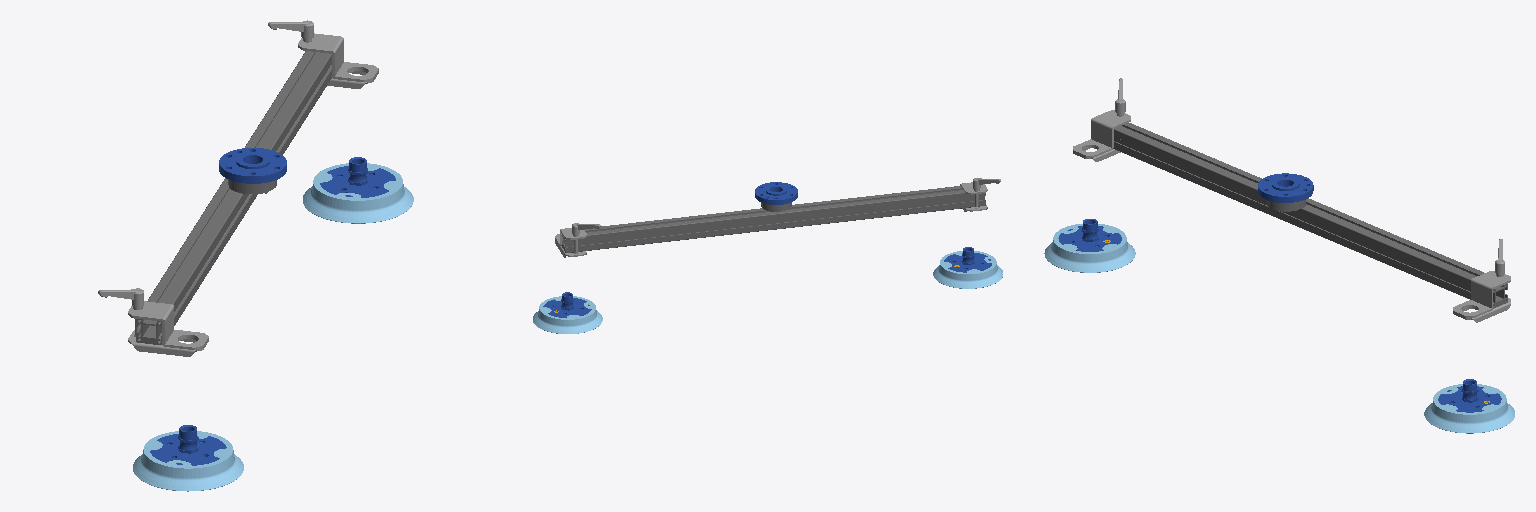
The robot description file, URDF, robot "vacuum_gripper":
<?xml version="1.0" ?>
<!-- Generated using onshape-to-robot -->
<!-- Onshape document_id: 4b207e6831627653b3a849ee -->
<robot name="vacuum_gripper">
  <!-- Link flangeadapter -->
  <link name="flangeadapter">
    <inertial>
      <origin xyz="3.24835e-05 0.00023746 -0.00690755" rpy="0 0 0"/>
      <mass value="0.2565"/>
      <inertia ixx="0.000152523" ixy="1.4611e-07" ixz="7.1592e-08" iyy="0.000154316" iyz="2.01529e-07" izz="0.000293307"/>
    </inertial>
    <!-- Part flangeadapter -->
    <visual>
      <origin xyz="-0 0.000379203 0" rpy="1.5708 -0 -1.5708"/>
      <geometry>
        <mesh filename="package://vaacum_gripper_description/assets/flangeadapter.stl"/>
      </geometry>
      <material name="flangeadapter_material">
        <color rgba="0.231373 0.380392 0.705882 1"/>
      </material>
    </visual>
    <collision>
      <origin xyz="-0 0.000379203 0" rpy="1.5708 -0 -1.5708"/>
      <geometry>
        <mesh filename="package://vaacum_gripper_description/assets/flangeadapter.stl"/>
      </geometry>
    </collision>
  </link>
  <!-- Link robotprofileconnector -->
  <link name="robotprofileconnector">
    <inertial>
      <origin xyz="-0.000217881 0.0248687 -0.0061243" rpy="0 0 0"/>
      <mass value="0.104326"/>
      <inertia ixx="3.13544e-05" ixy="8.77639e-07" ixz="2.2962e-08" iyy="3.16219e-05" iyz="-3.6649e-08" izz="5.95628e-05"/>
    </inertial>
    <!-- Part robotprofileconnector -->
    <visual>
      <origin xyz="-0 0.025 -0" rpy="1.5708 -0 -1.5708"/>
      <geometry>
        <mesh filename="package://vaacum_gripper_description/assets/robotprofileconnector.stl"/>
      </geometry>
      <material name="robotprofileconnector_material">
        <color rgba="0.972549 0.529412 0.00392157 1"/>
      </material>
    </visual>
    <collision>
      <origin xyz="-0 0.025 -0" rpy="1.5708 -0 -1.5708"/>
      <geometry>
        <mesh filename="package://vaacum_gripper_description/assets/robotprofileconnector.stl"/>
      </geometry>
    </collision>
  </link>
  <!-- Link robotprofileconnector2 -->
  <link name="robotprofileconnector2">
    <inertial>
      <origin xyz="-7.00286e-05 -0.00647985 0.0319523" rpy="0 0 0"/>
      <mass value="0.172365"/>
      <inertia ixx="7.74249e-05" ixy="9.8444e-08" ixz="-2.67099e-07" iyy="0.000145439" iyz="-3.5652e-08" izz="7.67889e-05"/>
    </inertial>
    <!-- Part robotprofileconnector2 -->
    <visual>
      <origin xyz="-0 -0.008 0.0319268" rpy="-3.14159 1.22173 3.14159"/>
      <geometry>
        <mesh filename="package://vaacum_gripper_description/assets/robotprofileconnector2.stl"/>
      </geometry>
      <material name="robotprofileconnector2_material">
        <color rgba="0.498039 0.498039 0.498039 1"/>
      </material>
    </visual>
    <collision>
      <origin xyz="-0 -0.008 0.0319268" rpy="-3.14159 1.22173 3.14159"/>
      <geometry>
        <mesh filename="package://vaacum_gripper_description/assets/robotprofileconnector2.stl"/>
      </geometry>
    </collision>
  </link>
  <!-- Link aluprofile -->
  <link name="aluprofile">
    <inertial>
      <origin xyz="0 -0 -0.0172184" rpy="0 0 0"/>
      <mass value="1.97459"/>
      <inertia ixx="0.164918" ixy="0" ixz="-0" iyy="0.000675187" iyz="0" izz="0.164855"/>
    </inertial>
    <!-- Part aluprofile -->
    <visual>
      <origin xyz="-0 -0.05 -0.0143" rpy="-3.14159 0 0"/>
      <geometry>
        <mesh filename="package://vaacum_gripper_description/assets/aluprofile.stl"/>
      </geometry>
      <material name="aluprofile_material">
        <color rgba="0.498039 0.498039 0.498039 1"/>
      </material>
    </visual>
    <collision>
      <origin xyz="-0 -0.05 -0.0143" rpy="-3.14159 0 0"/>
      <geometry>
        <mesh filename="package://vaacum_gripper_description/assets/aluprofile.stl"/>
      </geometry>
    </collision>
  </link>
  <!-- Link profilespringconnector -->
  <link name="profilespringconnector">
    <inertial>
      <origin xyz="0.00949356 0.0210946 0.0227285" rpy="0 0 0"/>
      <mass value="0.199581"/>
      <inertia ixx="0.000198297" ixy="-2.00512e-05" ixz="0.000116046" iyy="0.000366965" iyz="1.81775e-05" izz="0.000272733"/>
    </inertial>
    <!-- Part profilespringconnector -->
    <visual>
      <origin xyz="-0.0326322 -0.0037366 -0.003" rpy="1.5708 0 0"/>
      <geometry>
        <mesh filename="package://vaacum_gripper_description/assets/profilespringconnector.stl"/>
      </geometry>
      <material name="profilespringconnector_material">
        <color rgba="0.647059 0.647059 0.647059 1"/>
      </material>
    </visual>
    <collision>
      <origin xyz="-0.0326322 -0.0037366 -0.003" rpy="1.5708 0 0"/>
      <geometry>
        <mesh filename="package://vaacum_gripper_description/assets/profilespringconnector.stl"/>
      </geometry>
    </collision>
  </link>
  <!-- Link spring -->
  <link name="spring">
    <inertial>
      <origin xyz="-4.625e-09 0.000136185 -0.0334185" rpy="0 0 0"/>
      <mass value="0.53"/>
      <inertia ixx="0.00156996" ixy="-3.1e-11" ixz="7.9e-11" iyy="0.00157086" iyz="3.56582e-06" izz="6.42262e-05"/>
    </inertial>
    <!-- Part spring -->
    <visual>
      <origin xyz="0 0 -0.0808" rpy="1.5708 -0 0"/>
      <geometry>
        <mesh filename="package://vaacum_gripper_description/assets/spring.stl"/>
      </geometry>
      <material name="spring_material">
        <color rgba="0.796078 0.823529 0.937255 1"/>
      </material>
    </visual>
    <collision>
      <origin xyz="0 0 -0.0808" rpy="1.5708 -0 0"/>
      <geometry>
        <mesh filename="package://vaacum_gripper_description/assets/spring.stl"/>
      </geometry>
    </collision>
  </link>
  <!-- Link springcupconnector -->
  <link name="springcupconnector">
    <inertial>
      <origin xyz="0 0 -0.0233584" rpy="0 0 0"/>
      <mass value="0.1"/>
      <inertia ixx="1.95772e-05" ixy="0" ixz="0" iyy="1.95772e-05" iyz="-0" izz="9.18247e-06"/>
    </inertial>
    <!-- Part springcupconnector -->
    <visual>
      <origin xyz="0 0 -0.046338" rpy="0 -0 -0"/>
      <geometry>
        <mesh filename="package://vaacum_gripper_description/assets/springcupconnector.stl"/>
      </geometry>
      <material name="springcupconnector_material">
        <color rgba="0.231373 0.380392 0.705882 1"/>
      </material>
    </visual>
    <collision>
      <origin xyz="0 0 -0.046338" rpy="0 -0 -0"/>
      <geometry>
        <mesh filename="package://vaacum_gripper_description/assets/springcupconnector.stl"/>
      </geometry>
    </collision>
  </link>
  <!-- Link suctioncup -->
  <link name="suctioncup">
    <inertial>
      <origin xyz="-0.000144558 -0.000385092 0.0104585" rpy="0 0 0"/>
      <mass value="0.387"/>
      <inertia ixx="0.000462282" ixy="-1.0112e-06" ixz="-4.41492e-07" iyy="0.000459997" iyz="-9.96771e-07" izz="0.000893032"/>
    </inertial>
    <!-- Part 1 -->
    <visual>
      <origin xyz="-0 -0 0" rpy="-3.14159 0 -0"/>
      <geometry>
        <mesh filename="package://vaacum_gripper_description/assets/1.stl"/>
      </geometry>
      <material name="1_material">
        <color rgba="0.980392 0.713725 0.00392157 1"/>
      </material>
    </visual>
    <collision>
      <origin xyz="-0 -0 0" rpy="-3.14159 0 -0"/>
      <geometry>
        <mesh filename="package://vaacum_gripper_description/assets/1.stl"/>
      </geometry>
    </collision>
    <!-- Part 1_2 -->
    <visual>
      <origin xyz="-0 0 0" rpy="-3.14159 -0 -0"/>
      <geometry>
        <mesh filename="package://vaacum_gripper_description/assets/1__2.stl"/>
      </geometry>
      <material name="1_2_material">
        <color rgba="0.231373 0.380392 0.705882 1"/>
      </material>
    </visual>
    <collision>
      <origin xyz="-0 0 0" rpy="-3.14159 -0 -0"/>
      <geometry>
        <mesh filename="package://vaacum_gripper_description/assets/1__2.stl"/>
      </geometry>
    </collision>
    <!-- Part 1_3 -->
    <visual>
      <origin xyz="0.000171696 0.000249668 -0.0002" rpy="-3.14159 0 -0"/>
      <geometry>
        <mesh filename="package://vaacum_gripper_description/assets/1__3.stl"/>
      </geometry>
      <material name="1_3_material">
        <color rgba="0.615686 0.811765 0.929412 1"/>
      </material>
    </visual>
    <collision>
      <origin xyz="0.000171696 0.000249668 -0.0002" rpy="-3.14159 0 -0"/>
      <geometry>
        <mesh filename="package://vaacum_gripper_description/assets/1__3.stl"/>
      </geometry>
    </collision>
  </link>
  <!-- Joint from springcupconnector to suctioncup -->
  <joint name="flexlink_cup" type="fixed">
    <origin xyz="0 0 -0.032338" rpy="3.14159 -0 -0"/>
    <parent link="springcupconnector"/>
    <child link="suctioncup"/>
    <axis xyz="0 0 1"/>
    <limit effort="10" velocity="10"/>
  </joint>
  <!-- Joint from spring to springcupconnector -->
  <joint name="spring_flexlink" type="prismatic">
    <origin xyz="0 0 -0.137905" rpy="0 -0 0"/>
    <parent link="spring"/>
    <child link="springcupconnector"/>
    <axis xyz="0 0 1"/>
    <limit effort="10" velocity="10" lower="0" upper="0.075"/>
  </joint>
  <!-- Joint from profilespringconnector to spring -->
  <joint name="springconnector_spring" type="fixed">
    <origin xyz="0.0543678 0.0227634 -0.003" rpy="-0 -0 0"/>
    <parent link="profilespringconnector"/>
    <child link="spring"/>
    <axis xyz="0 0 1"/>
    <limit effort="10" velocity="10"/>
  </joint>
  <!-- Joint from aluprofile to profilespringconnector -->
  <joint name="profile_springconnector" type="fixed">
    <origin xyz="-0.002 -0.5 -0.0343" rpy="0 0 0"/>
    <parent link="aluprofile"/>
    <child link="profilespringconnector"/>
    <axis xyz="0 0 1"/>
    <limit effort="10" velocity="10"/>
  </joint>
  <!-- Link profilespringconnector_2 -->
  <link name="profilespringconnector_2">
    <inertial>
      <origin xyz="0.00749356 -0.0244322 0.0227285" rpy="0 0 0"/>
      <mass value="0.199581"/>
      <inertia ixx="0.000198297" ixy="-2.00512e-05" ixz="0.000116046" iyy="0.000366965" iyz="1.81775e-05" izz="0.000272733"/>
    </inertial>
    <!-- Part profilespringconnector_2 -->
    <visual>
      <origin xyz="-0.0346322 -0.0492634 -0.003" rpy="1.5708 0 0"/>
      <geometry>
        <mesh filename="package://vaacum_gripper_description/assets/profilespringconnector.stl"/>
      </geometry>
      <material name="profilespringconnector_2_material">
        <color rgba="0.647059 0.647059 0.647059 1"/>
      </material>
    </visual>
    <collision>
      <origin xyz="-0.0346322 -0.0492634 -0.003" rpy="1.5708 0 0"/>
      <geometry>
        <mesh filename="package://vaacum_gripper_description/assets/profilespringconnector.stl"/>
      </geometry>
    </collision>
  </link>
  <!-- Link spring_2 -->
  <link name="spring_2">
    <inertial>
      <origin xyz="-4.625e-09 0.000136185 -0.0334185" rpy="0 0 0"/>
      <mass value="0.53"/>
      <inertia ixx="0.00156996" ixy="-3.1e-11" ixz="7.9e-11" iyy="0.00157086" iyz="3.56582e-06" izz="6.42262e-05"/>
    </inertial>
    <!-- Part spring_2 -->
    <visual>
      <origin xyz="0 -0 -0.0808" rpy="1.5708 -0 0"/>
      <geometry>
        <mesh filename="package://vaacum_gripper_description/assets/spring.stl"/>
      </geometry>
      <material name="spring_2_material">
        <color rgba="0.796078 0.823529 0.937255 1"/>
      </material>
    </visual>
    <collision>
      <origin xyz="0 -0 -0.0808" rpy="1.5708 -0 0"/>
      <geometry>
        <mesh filename="package://vaacum_gripper_description/assets/spring.stl"/>
      </geometry>
    </collision>
  </link>
  <!-- Link springcupconnector_2 -->
  <link name="springcupconnector_2">
    <inertial>
      <origin xyz="-0 0 -0.0233584" rpy="0 0 0"/>
      <mass value="0.1"/>
      <inertia ixx="1.95772e-05" ixy="-0" ixz="-0" iyy="1.95772e-05" iyz="0" izz="9.18247e-06"/>
    </inertial>
    <!-- Part springcupconnector_2 -->
    <visual>
      <origin xyz="-0 0 -0.046338" rpy="0 -0 -0"/>
      <geometry>
        <mesh filename="package://vaacum_gripper_description/assets/springcupconnector.stl"/>
      </geometry>
      <material name="springcupconnector_2_material">
        <color rgba="0.231373 0.380392 0.705882 1"/>
      </material>
    </visual>
    <collision>
      <origin xyz="-0 0 -0.046338" rpy="0 -0 -0"/>
      <geometry>
        <mesh filename="package://vaacum_gripper_description/assets/springcupconnector.stl"/>
      </geometry>
    </collision>
  </link>
  <!-- Link suctioncup_2 -->
  <link name="suctioncup_2">
    <inertial>
      <origin xyz="-0.000144558 -0.000385092 0.0104585" rpy="0 0 0"/>
      <mass value="0.387"/>
      <inertia ixx="0.000462282" ixy="-1.0112e-06" ixz="-4.41492e-07" iyy="0.000459997" iyz="-9.96771e-07" izz="0.000893032"/>
    </inertial>
    <!-- Part 1_4 -->
    <visual>
      <origin xyz="0 -0 -0" rpy="3.14159 0 0"/>
      <geometry>
        <mesh filename="package://vaacum_gripper_description/assets/1.stl"/>
      </geometry>
      <material name="1_4_material">
        <color rgba="0.980392 0.713725 0.00392157 1"/>
      </material>
    </visual>
    <collision>
      <origin xyz="0 -0 -0" rpy="3.14159 0 0"/>
      <geometry>
        <mesh filename="package://vaacum_gripper_description/assets/1.stl"/>
      </geometry>
    </collision>
    <!-- Part 1_5 -->
    <visual>
      <origin xyz="0 0 0" rpy="3.14159 -0 0"/>
      <geometry>
        <mesh filename="package://vaacum_gripper_description/assets/1__2.stl"/>
      </geometry>
      <material name="1_5_material">
        <color rgba="0.231373 0.380392 0.705882 1"/>
      </material>
    </visual>
    <collision>
      <origin xyz="0 0 0" rpy="3.14159 -0 0"/>
      <geometry>
        <mesh filename="package://vaacum_gripper_description/assets/1__2.stl"/>
      </geometry>
    </collision>
    <!-- Part 1_6 -->
    <visual>
      <origin xyz="0.000171696 0.000249668 -0.0002" rpy="3.14159 0 0"/>
      <geometry>
        <mesh filename="package://vaacum_gripper_description/assets/1__3.stl"/>
      </geometry>
      <material name="1_6_material">
        <color rgba="0.615686 0.811765 0.929412 1"/>
      </material>
    </visual>
    <collision>
      <origin xyz="0.000171696 0.000249668 -0.0002" rpy="3.14159 0 0"/>
      <geometry>
        <mesh filename="package://vaacum_gripper_description/assets/1__3.stl"/>
      </geometry>
    </collision>
  </link>
  <!-- Joint from springcupconnector_2 to suctioncup_2 -->
  <joint name="flexlink_cup2" type="fixed">
    <origin xyz="-0 0 -0.032338" rpy="3.14159 0 0"/>
    <parent link="springcupconnector_2"/>
    <child link="suctioncup_2"/>
    <axis xyz="0 0 1"/>
    <limit effort="10" velocity="10"/>
  </joint>
  <!-- Joint from spring_2 to springcupconnector_2 -->
  <joint name="spring_flexlink2" type="prismatic">
    <origin xyz="0 -0 -0.137905" rpy="-0 -0 -0"/>
    <parent link="spring_2"/>
    <child link="springcupconnector_2"/>
    <axis xyz="0 0 1"/>
    <limit effort="10" velocity="10" lower="0" upper="0.075"/>
  </joint>
  <!-- Joint from profilespringconnector_2 to spring_2 -->
  <joint name="srpingconnector_spring2" type="fixed">
    <origin xyz="0.0523678 -0.0227634 -0.003" rpy="0 -0 0"/>
    <parent link="profilespringconnector_2"/>
    <child link="spring_2"/>
    <axis xyz="0 0 1"/>
    <limit effort="10" velocity="10"/>
  </joint>
  <!-- Joint from aluprofile to profilespringconnector_2 -->
  <joint name="profile_springconnector2" type="fixed">
    <origin xyz="0 0.5 -0.0343" rpy="0 0 0"/>
    <parent link="aluprofile"/>
    <child link="profilespringconnector_2"/>
    <axis xyz="0 0 1"/>
    <limit effort="10" velocity="10"/>
  </joint>
  <!-- Joint from robotprofileconnector2 to aluprofile -->
  <joint name="connector2_profile" type="fixed">
    <origin xyz="-0.00358141 -0.018135 0.0591926" rpy="1.5708 1.22173 3.14159"/>
    <parent link="robotprofileconnector2"/>
    <child link="aluprofile"/>
    <axis xyz="0 0 1"/>
    <limit effort="10" velocity="10"/>
  </joint>
  <!-- Joint from robotprofileconnector to robotprofileconnector2 -->
  <joint name="connector_connector2" type="fixed">
    <origin xyz="0.027869 0.0379955 -0.005" rpy="1.5708 -0 -1.13446"/>
    <parent link="robotprofileconnector"/>
    <child link="robotprofileconnector2"/>
    <axis xyz="0 0 1"/>
    <limit effort="10" velocity="10"/>
  </joint>
  <!-- Joint from flangeadapter to robotprofileconnector -->
  <joint name="flange_connector" type="fixed">
    <origin xyz="-0.025 0.000379203 -0.0185" rpy="0 -0 -1.5708"/>
    <parent link="flangeadapter"/>
    <child link="robotprofileconnector"/>
    <axis xyz="0 0 1"/>
    <limit effort="10" velocity="10"/>
  </joint>
</robot>

--- What the picture shows (computed from the rendered views, not written in the file) ---
The picture shows the robot from 3 angles, left to right: view 1: azimuth 30°, elevation 25°; view 2: azimuth 150°, elevation 25°; view 3: azimuth 270°, elevation 25°; orthographic projection.
Model vacuum_gripper with 12 links and 11 joints (2 prismatic, 9 fixed), rooted at flangeadapter, posed every joint at zero.
Visible links, largest first — view 1: aluprofile, suctioncup_2, suctioncup, profilespringconnector, profilespringconnector_2, flangeadapter; view 2: aluprofile, suctioncup, suctioncup_2, flangeadapter, profilespringconnector_2, profilespringconnector; view 3: aluprofile, suctioncup_2, suctioncup, profilespringconnector_2, profilespringconnector, flangeadapter.
Link boxes in pixels (x1,y1,x2,y2): aluprofile: (136,51,331,344); suctioncup_2: (303,163,413,223); suctioncup: (133,431,243,491); profilespringconnector: (98,288,208,356); profilespringconnector_2: (268,20,378,88); flangeadapter: (219,148,286,183); aluprofile: (562,186,985,252); suctioncup: (933,251,1002,288); suctioncup_2: (533,296,602,333); flangeadapter: (755,182,797,204); profilespringconnector_2: (555,223,600,257); profilespringconnector: (960,178,1000,211); aluprofile: (1113,123,1507,308); suctioncup_2: (1424,384,1514,433); suctioncup: (1044,224,1135,272); profilespringconnector_2: (1453,239,1510,322); profilespringconnector: (1073,78,1130,161); flangeadapter: (1258,173,1313,202).
Size in the robot's own frame: 0.8744 by 0.8369 by 0.2901 metres.
14 mesh visuals loaded from 10 distinct referenced files (9 binary STL); not drawn: 2 (reference not matched to a file when rendering).
